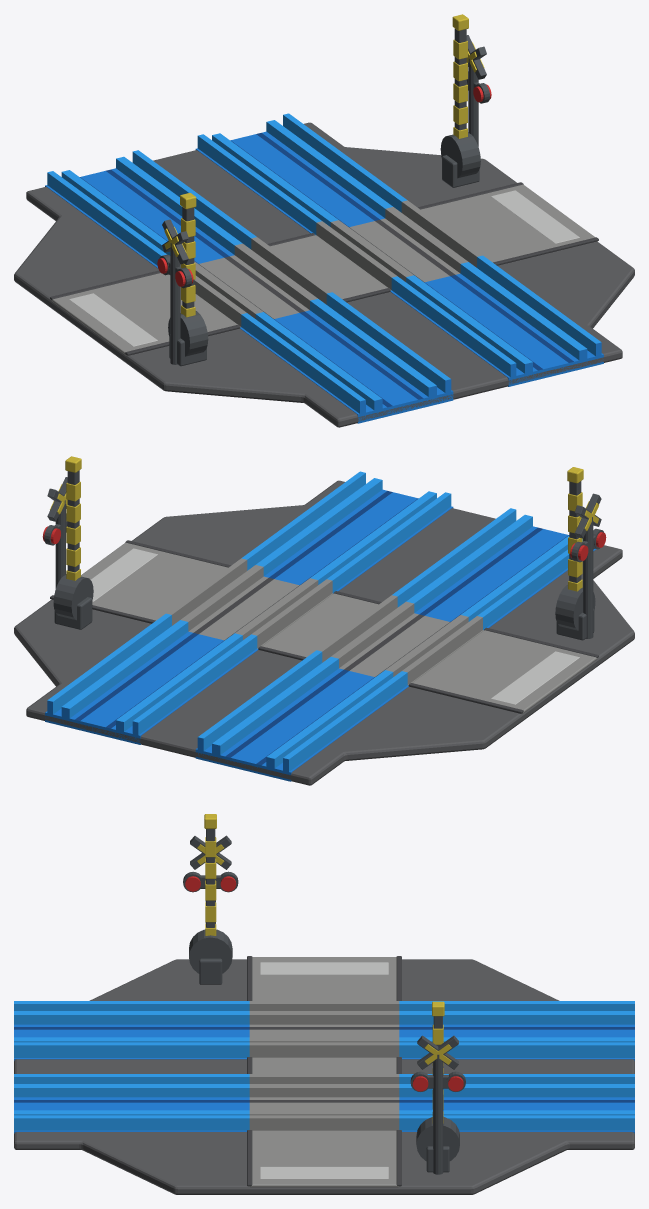
Rendered from Track_DoubleCrossing.fbx.
The picture shows the model from 3 angles, top to bottom: view 1: azimuth 30°, elevation 25°; view 2: azimuth 150°, elevation 25°; view 3: azimuth 270°, elevation 25°; orthographic projection.
Visible parts, largest first — view 1: Crossing road, Bed, Bed.003, Bed.005, Bed.002, Bed.004, Bed.001, Crossing deck, Crossing deck.001, Crossing deck.002, Stop line.001, Stop line (+5 smaller); view 2: Crossing road, Bed.005, Bed.002, Bed.003, Bed, Bed.004, Bed.001, Crossing deck.001, Crossing deck, Crossing deck.002, Stop line.001, Stop line (+8 smaller); view 3: Crossing road, Bed, Bed.003, Bed.002, Bed.005, Bed.001, Bed.004, Crossing deck, Crossing deck.001, Crossing deck.002, Stop line.001, Stop line (+4 smaller).
Boxes of the visible parts, x1,y1,x2,y2 form: Crossing road: [14, 122, 634, 427]; Bed: [240, 292, 453, 423]; Bed.003: [390, 255, 603, 386]; Bed.005: [195, 113, 407, 235]; Bed.002: [45, 150, 256, 268]; Bed.004: [315, 200, 482, 290]; Bed.001: [168, 237, 331, 327]; Crossing deck: [421, 184, 595, 262]; Crossing deck.001: [51, 273, 236, 355]; Crossing deck.002: [270, 235, 386, 299]; Stop line.001: [69, 293, 157, 346]; Stop line: [491, 190, 579, 243]; Crossing road: [14, 480, 634, 785]; Bed.005: [45, 613, 258, 744]; Bed.002: [195, 650, 408, 781]; Bed.003: [241, 471, 453, 593]; Bed: [392, 508, 596, 629]; Bed.004: [166, 558, 333, 648]; Bed.001: [317, 595, 483, 685]; Crossing deck.001: [412, 630, 597, 713]; Crossing deck: [53, 542, 227, 620]; Crossing deck.002: [262, 593, 378, 657]; Stop line.001: [491, 651, 579, 704]; Stop line: [90, 548, 157, 601]; Crossing road: [14, 959, 634, 1194]; Bed: [14, 1001, 249, 1060]; Bed.003: [14, 1074, 249, 1133]; Bed.002: [399, 1001, 634, 1060]; Bed.005: [399, 1074, 634, 1133]; Bed.001: [249, 1001, 399, 1057]; Bed.004: [249, 1074, 399, 1130]; Crossing deck: [250, 1130, 398, 1187]; Crossing deck.001: [252, 957, 396, 1000]; Crossing deck.002: [252, 1057, 396, 1073]; Stop line.001: [260, 962, 388, 974]; Stop line: [260, 1166, 388, 1178].
Bounding box in the file's own units: 522 × 183 × 600.
